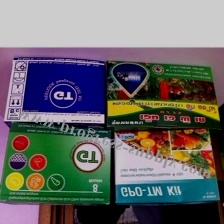book: (103, 56, 223, 142), (0, 119, 114, 209), (2, 52, 109, 143), (111, 125, 222, 209)
